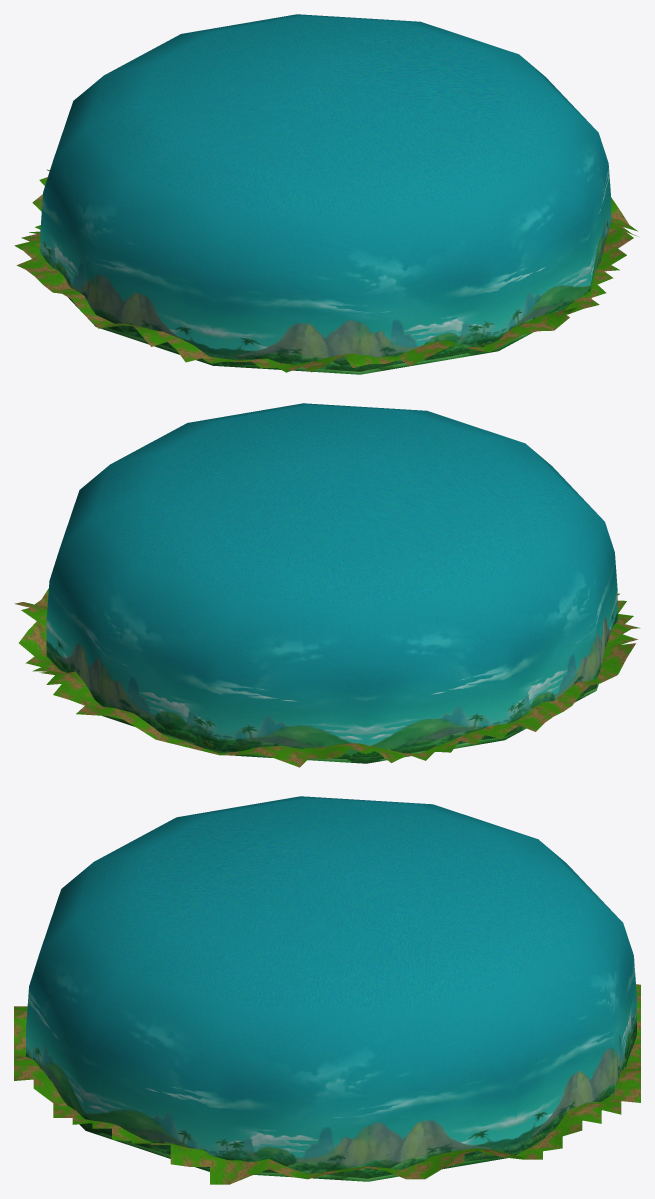
Rendered from caodicj.FBX.
The picture shows the model from 3 angles, top to bottom: view 1: azimuth 30°, elevation 25°; view 2: azimuth 150°, elevation 25°; view 3: azimuth 270°, elevation 25°; orthographic projection. The views are drawn at different scales.
Visible parts, largest first — view 1: Object034; view 2: Object034; view 3: Object034.
Boxes of the visible parts, box(x1,y1,x2,y2) form: Object034: box(14, 14, 638, 374); Object034: box(14, 403, 640, 767); Object034: box(14, 796, 640, 1184).
Bounding box in the file's own units: 61518 × 21401 × 60937.
